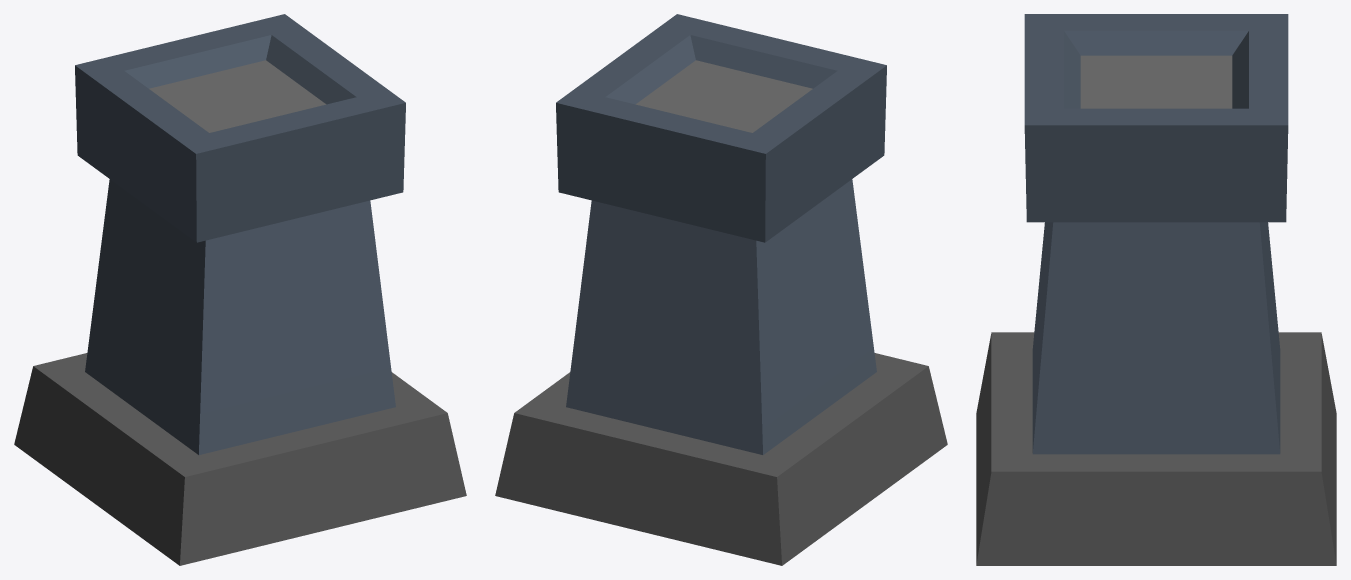
File: Chimney_3_C_2.fbx
The picture shows the model from 3 angles, left to right: view 1: azimuth 30°, elevation 25°; view 2: azimuth 150°, elevation 25°; view 3: azimuth 270°, elevation 25°; orthographic projection. The views are drawn at different scales.
Visible parts, largest first — view 1: Chimney_3_C_2; view 2: Chimney_3_C_2; view 3: Chimney_3_C_2.
Boxes of the visible parts, <box> form: Chimney_3_C_2: <box>14,14,466,565</box>; Chimney_3_C_2: <box>495,14,947,565</box>; Chimney_3_C_2: <box>976,14,1336,565</box>.
Size of the model in its own units: 63.94 by 82.23 by 63.94.
